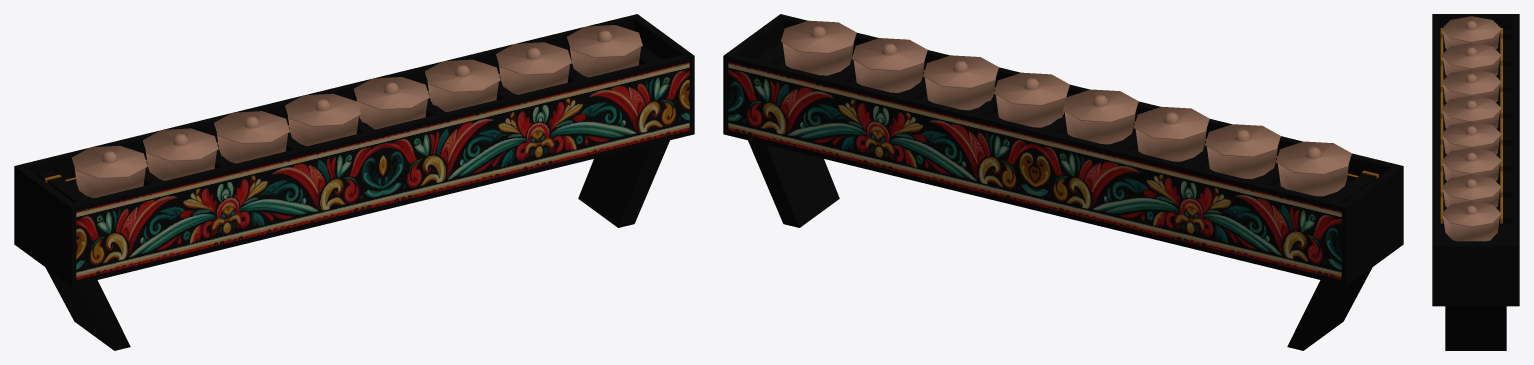
Rendered from kulintang.glb.
3 renders of one model, left to right at view 1: azimuth 30°, elevation 25°; view 2: azimuth 150°, elevation 25°; view 3: azimuth 270°, elevation 25°, orthographic. The views are drawn at different scales.
Parts seen in each view (by area): view 1: kulintang; view 2: kulintang; view 3: kulintang.
Part boxes in pixels (x1=…): kulintang: x1=14, y1=14, x2=694, y2=350; kulintang: x1=723, y1=14, x2=1403, y2=350; kulintang: x1=1432, y1=14, x2=1519, y2=350.
Size of what is drawn, in the model's own units: 4.91 by 1.37 by 0.7808.
2 materials, 1 textured.
